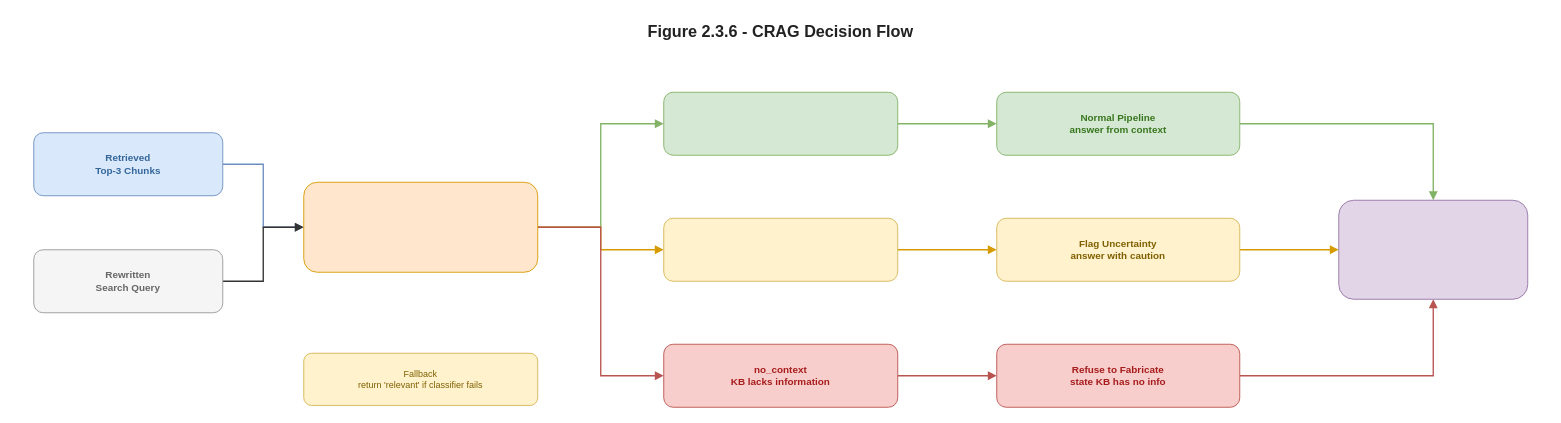
This 1561x423 diagram has some shape labels left out. The shapes that lost their labels are listed below. From the top down, each one's centre as x and y in pixels, then its label:
At point (780, 123): "relevant chunks answer directly".
At point (420, 226): "CRAG Classifier INTERNAL_LLM_MODEL temp=0, max_tokens=16".
At point (780, 249): "ambiguous partial match only".
At point (1433, 249): "LLM Generation OpenRouter final response".
